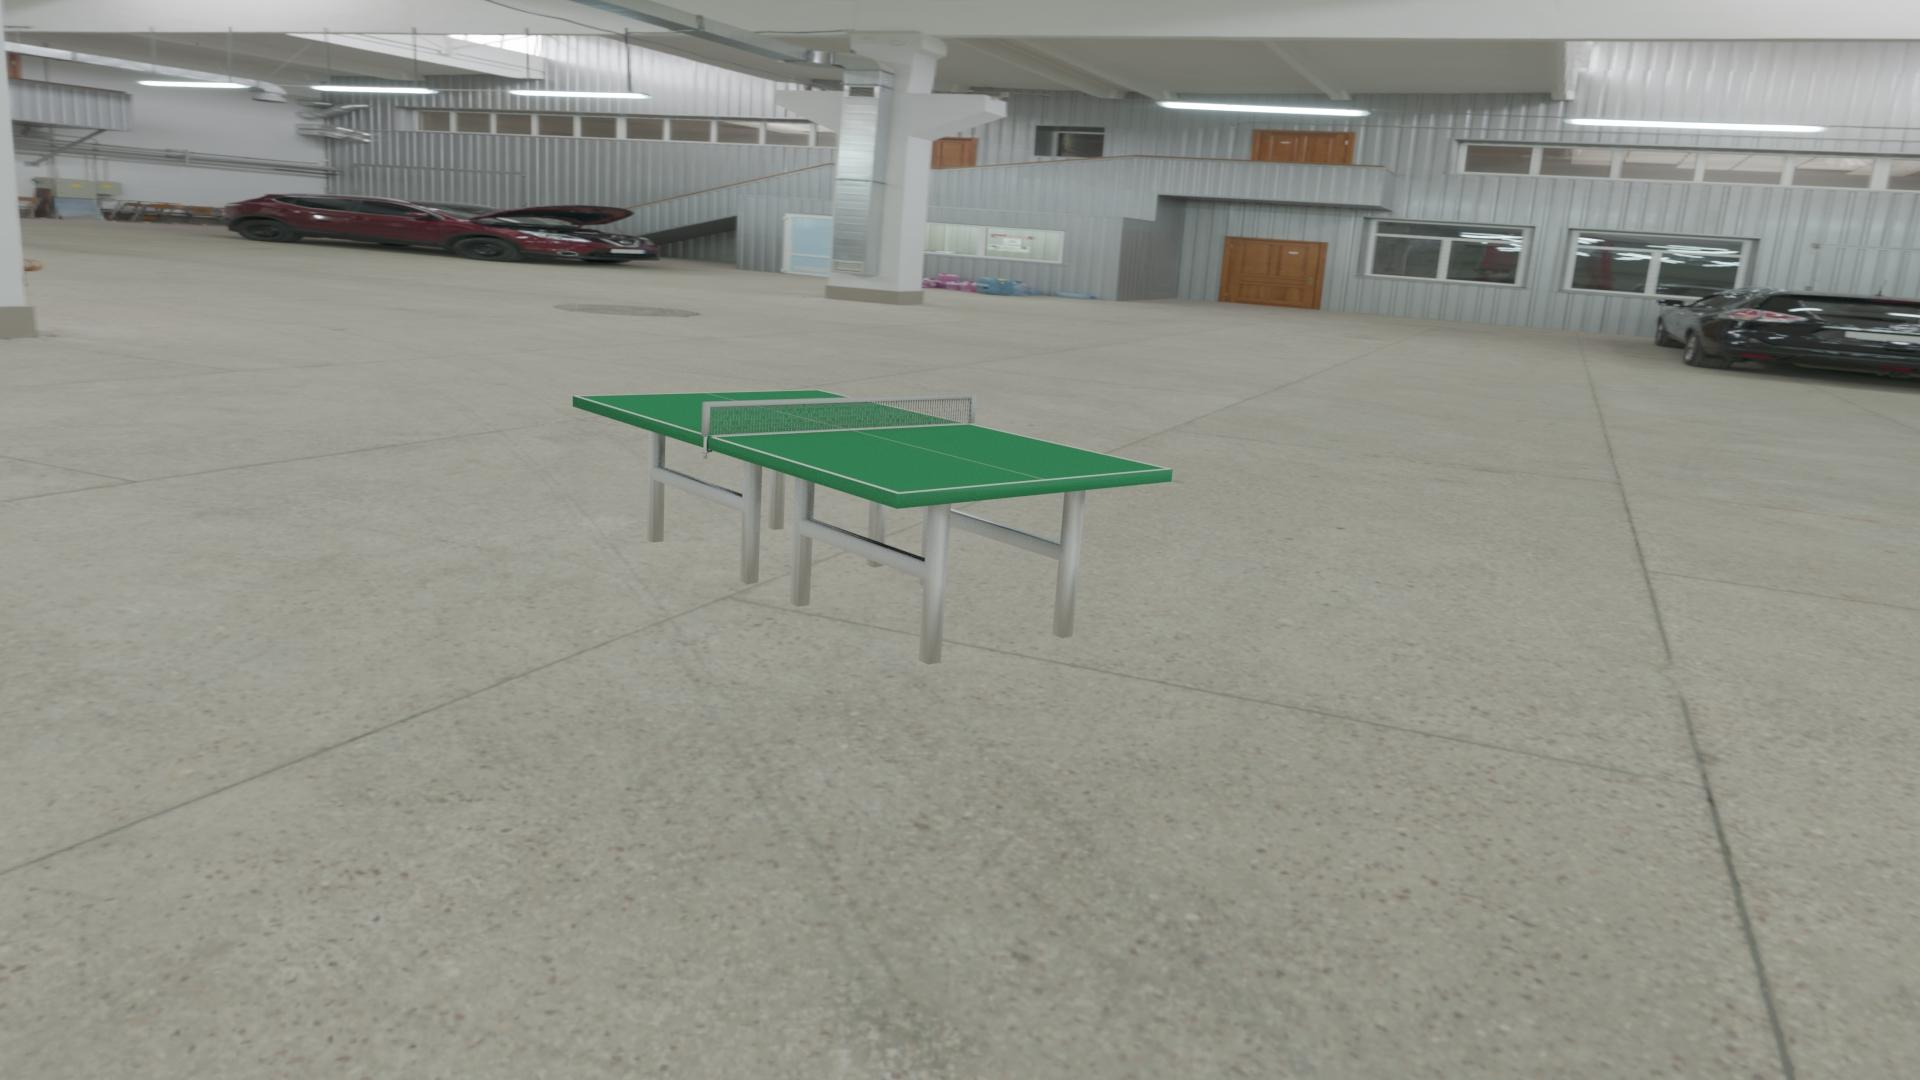table: (578, 390, 1166, 492)
